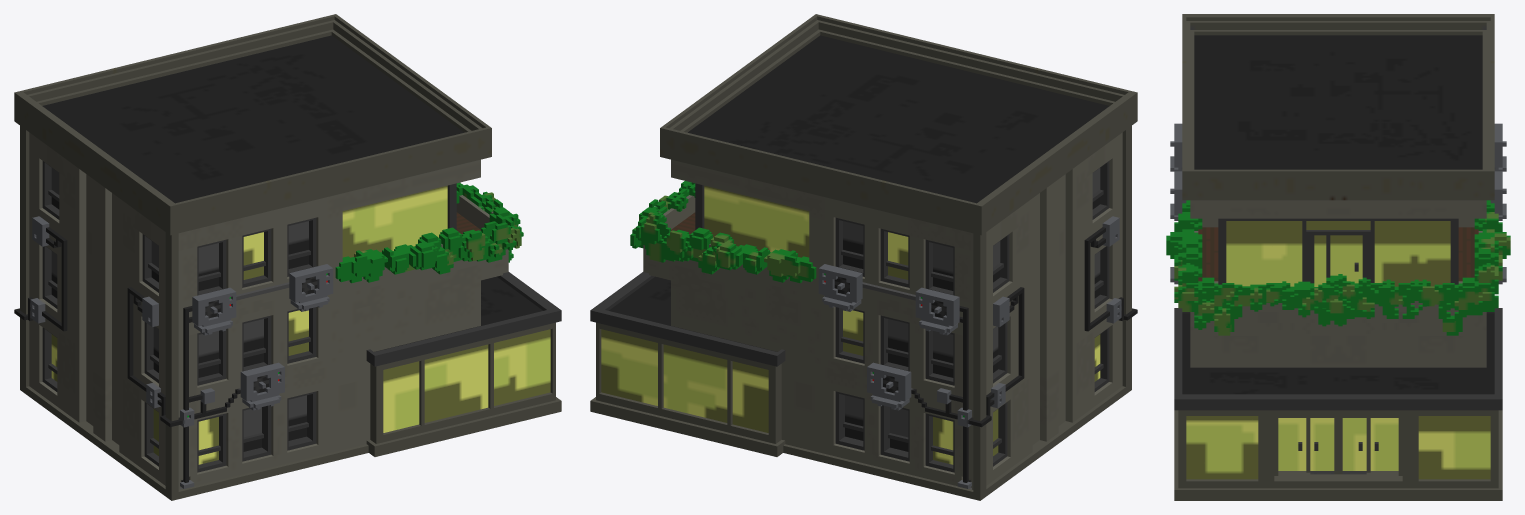
Rendered from residentialBuilding_03.fbx.
3 renders of one model, left to right at view 1: azimuth 30°, elevation 25°; view 2: azimuth 150°, elevation 25°; view 3: azimuth 270°, elevation 25°, orthographic.
Parts seen in each view (by area): view 1: building_03; view 2: building_03; view 3: building_03.
Boxes of the visible parts, bbox=[...] form: building_03: bbox=[14, 14, 561, 500]; building_03: bbox=[590, 14, 1137, 500]; building_03: bbox=[1166, 14, 1510, 500].
Size of the model in its own units: 112 by 82 by 86.
1 material, 1 textured.
